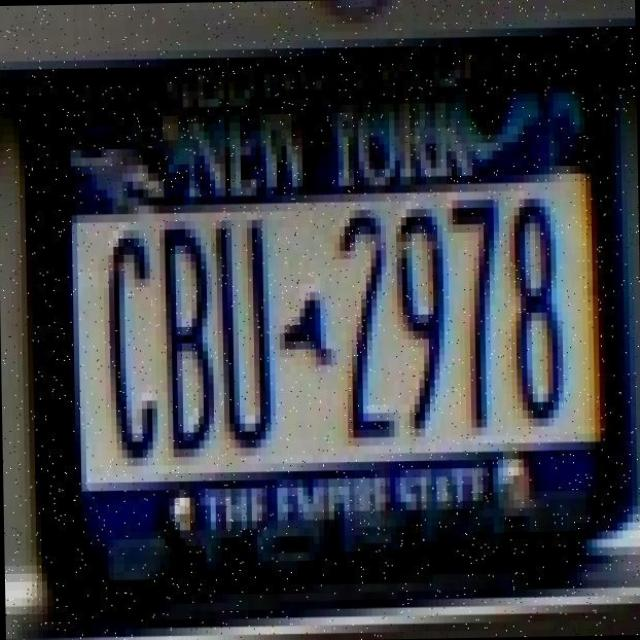LicensePlate: (9, 23, 640, 595)
